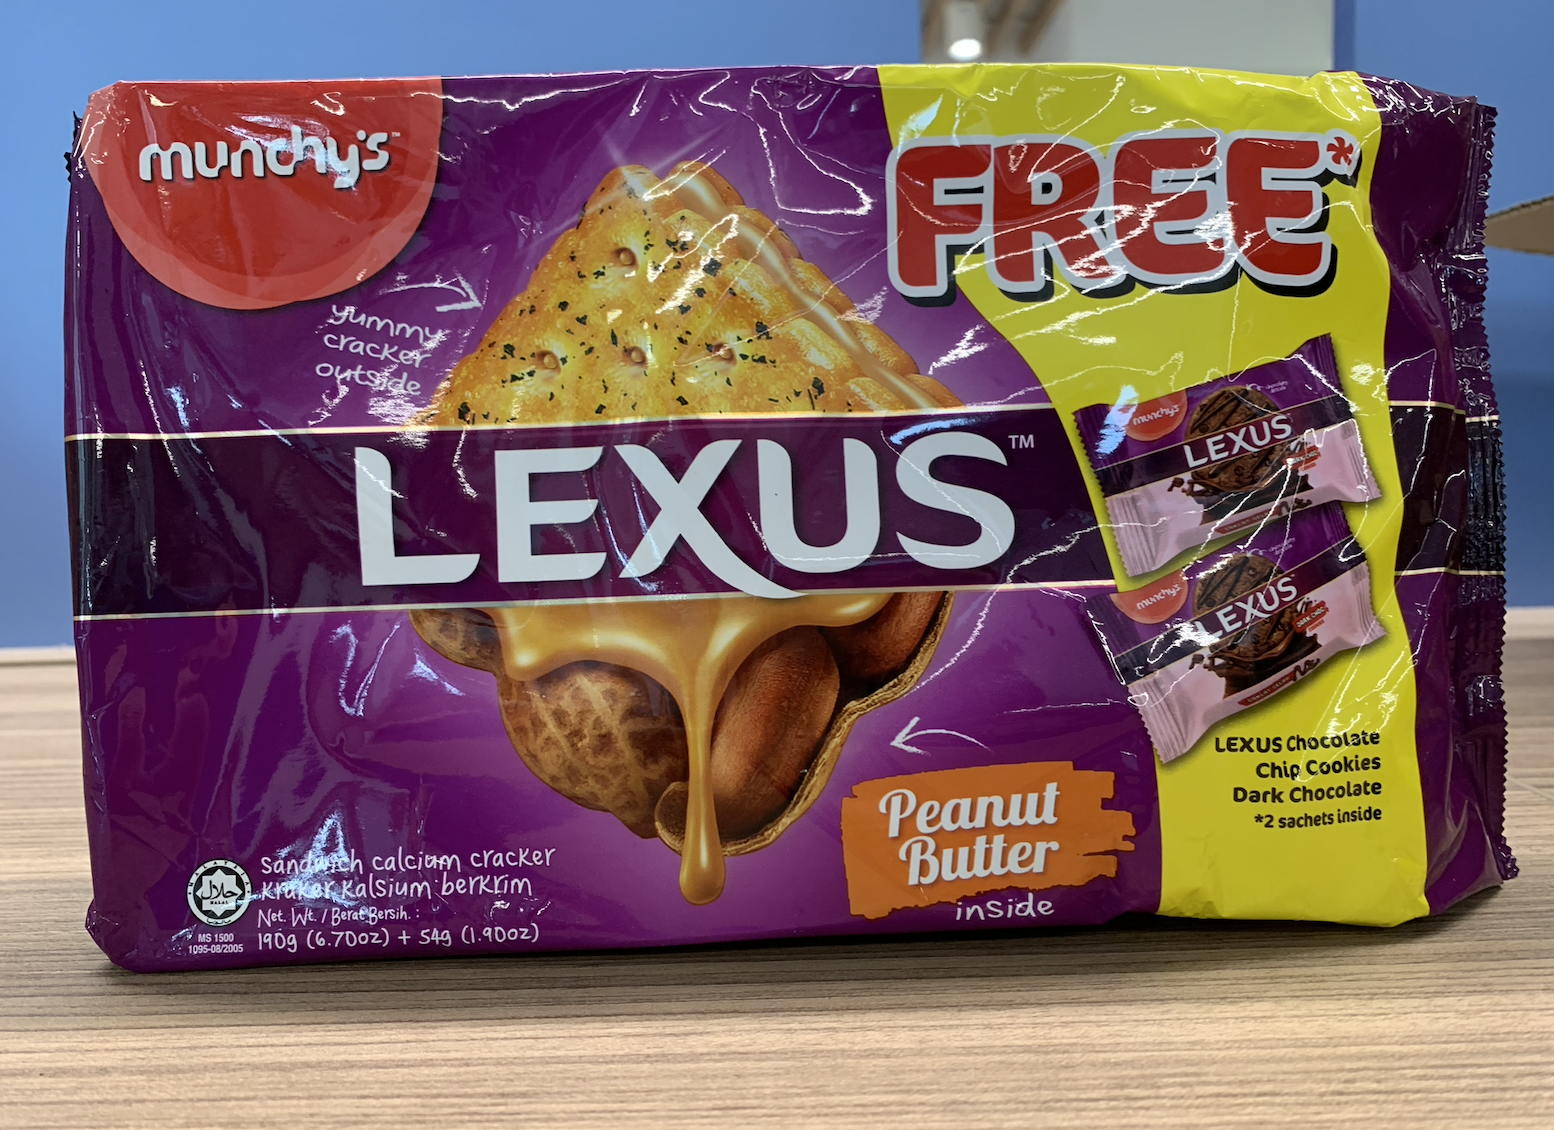cookies_100g-199g: (125, 93, 1387, 936)
